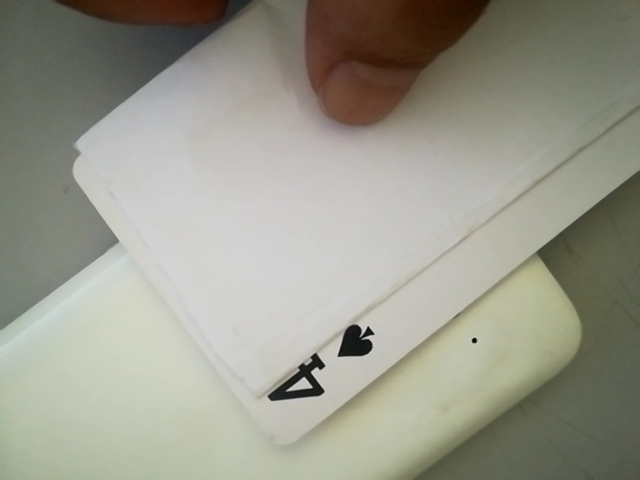ht 4: (251, 314, 397, 420)
